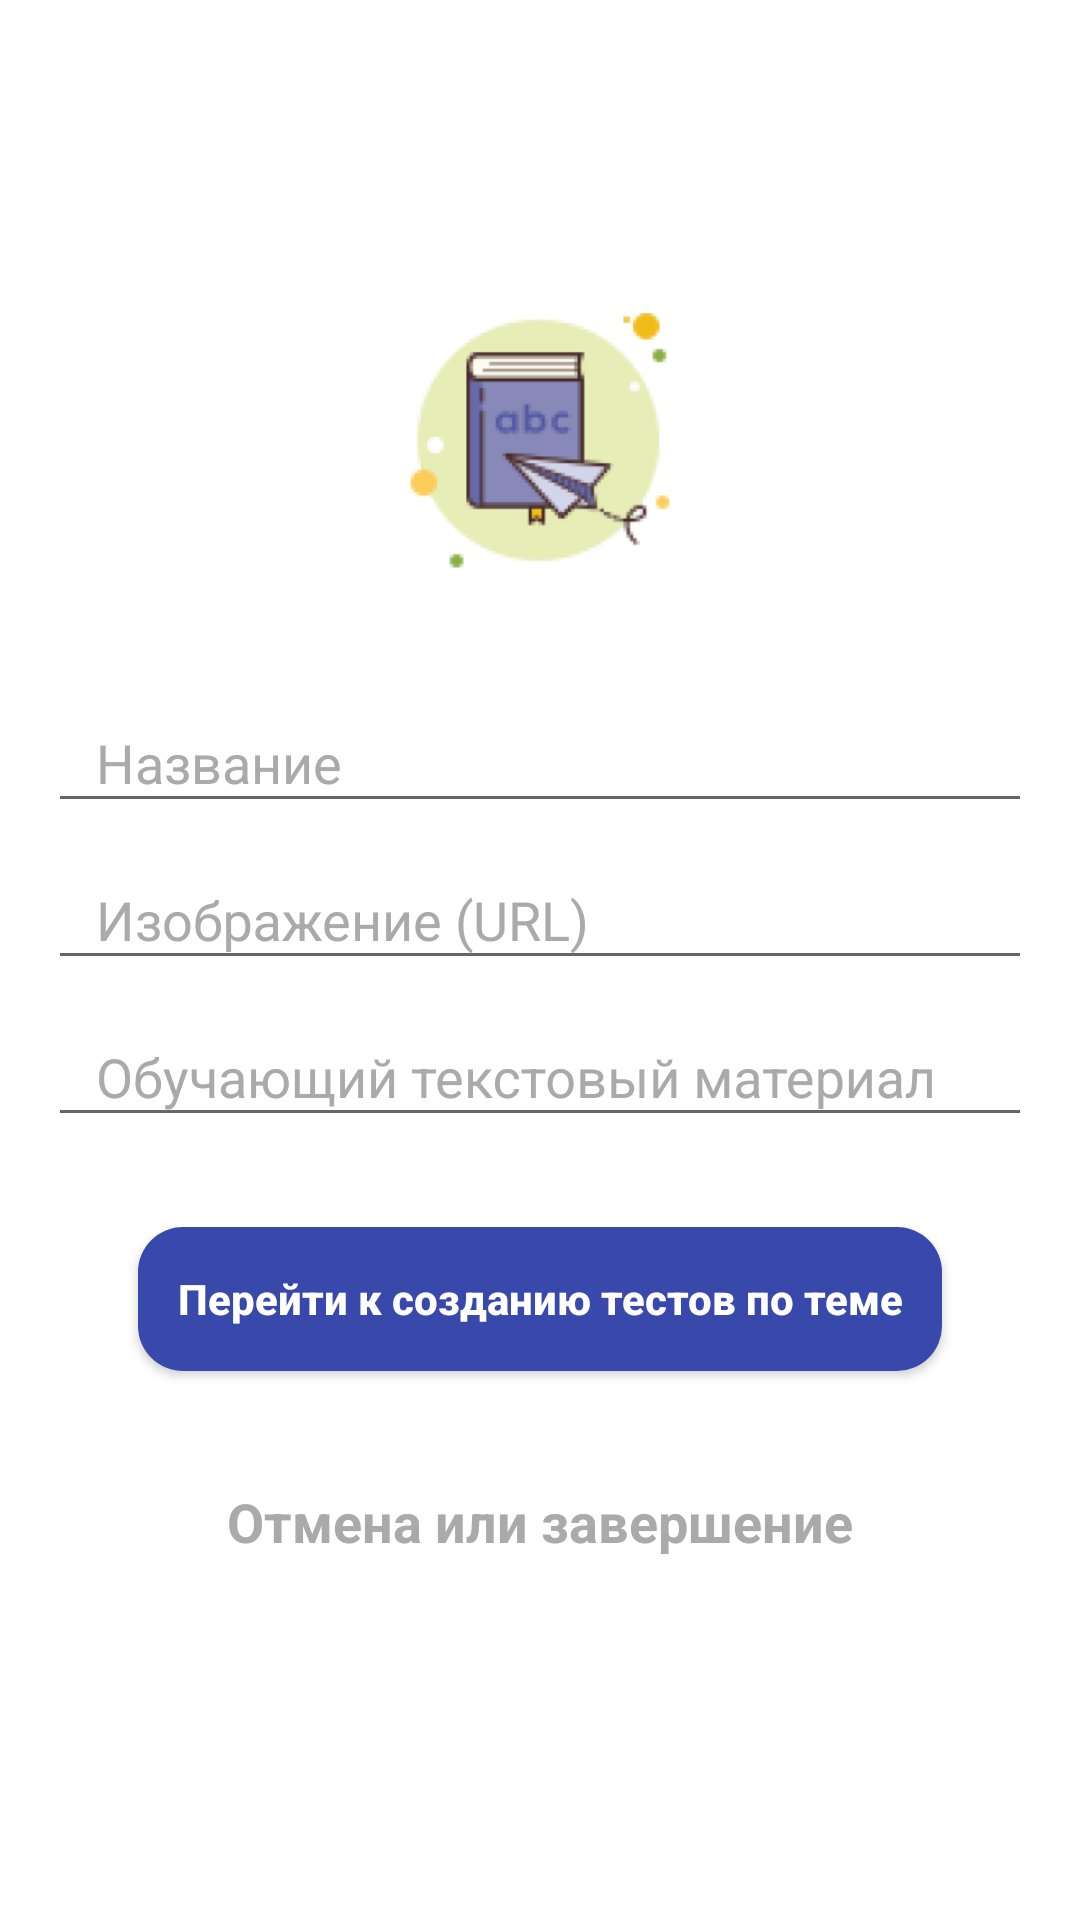

Named icons in this screenshot (1080×1920) and their centers, [x,y]:
book: [540,440]
